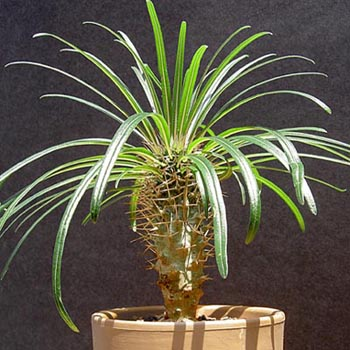Pachypodium geayi: (66, 19, 316, 317)
